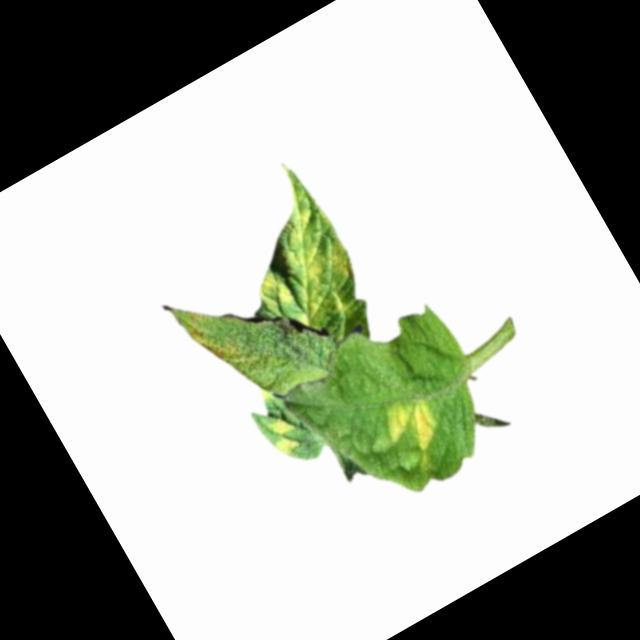Leaf_Mold: (213, 165, 379, 346), (373, 387, 446, 462), (258, 407, 308, 462)
